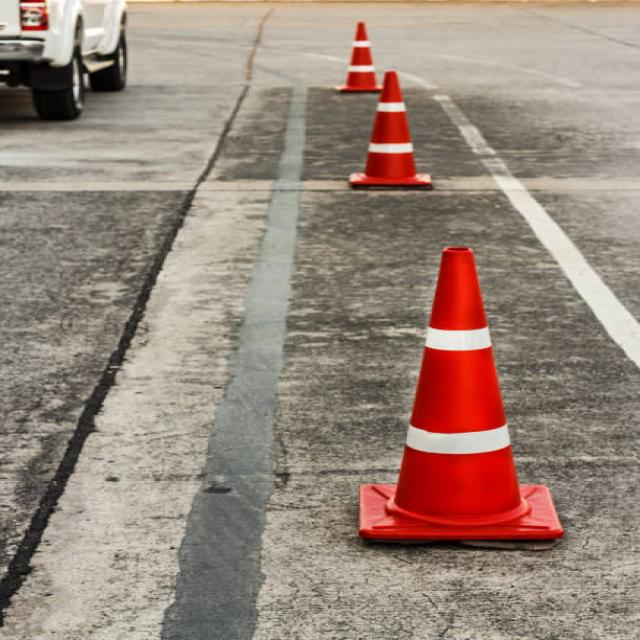Traffic Cone: (318, 223, 610, 563), (334, 61, 462, 197), (310, 10, 398, 104)
